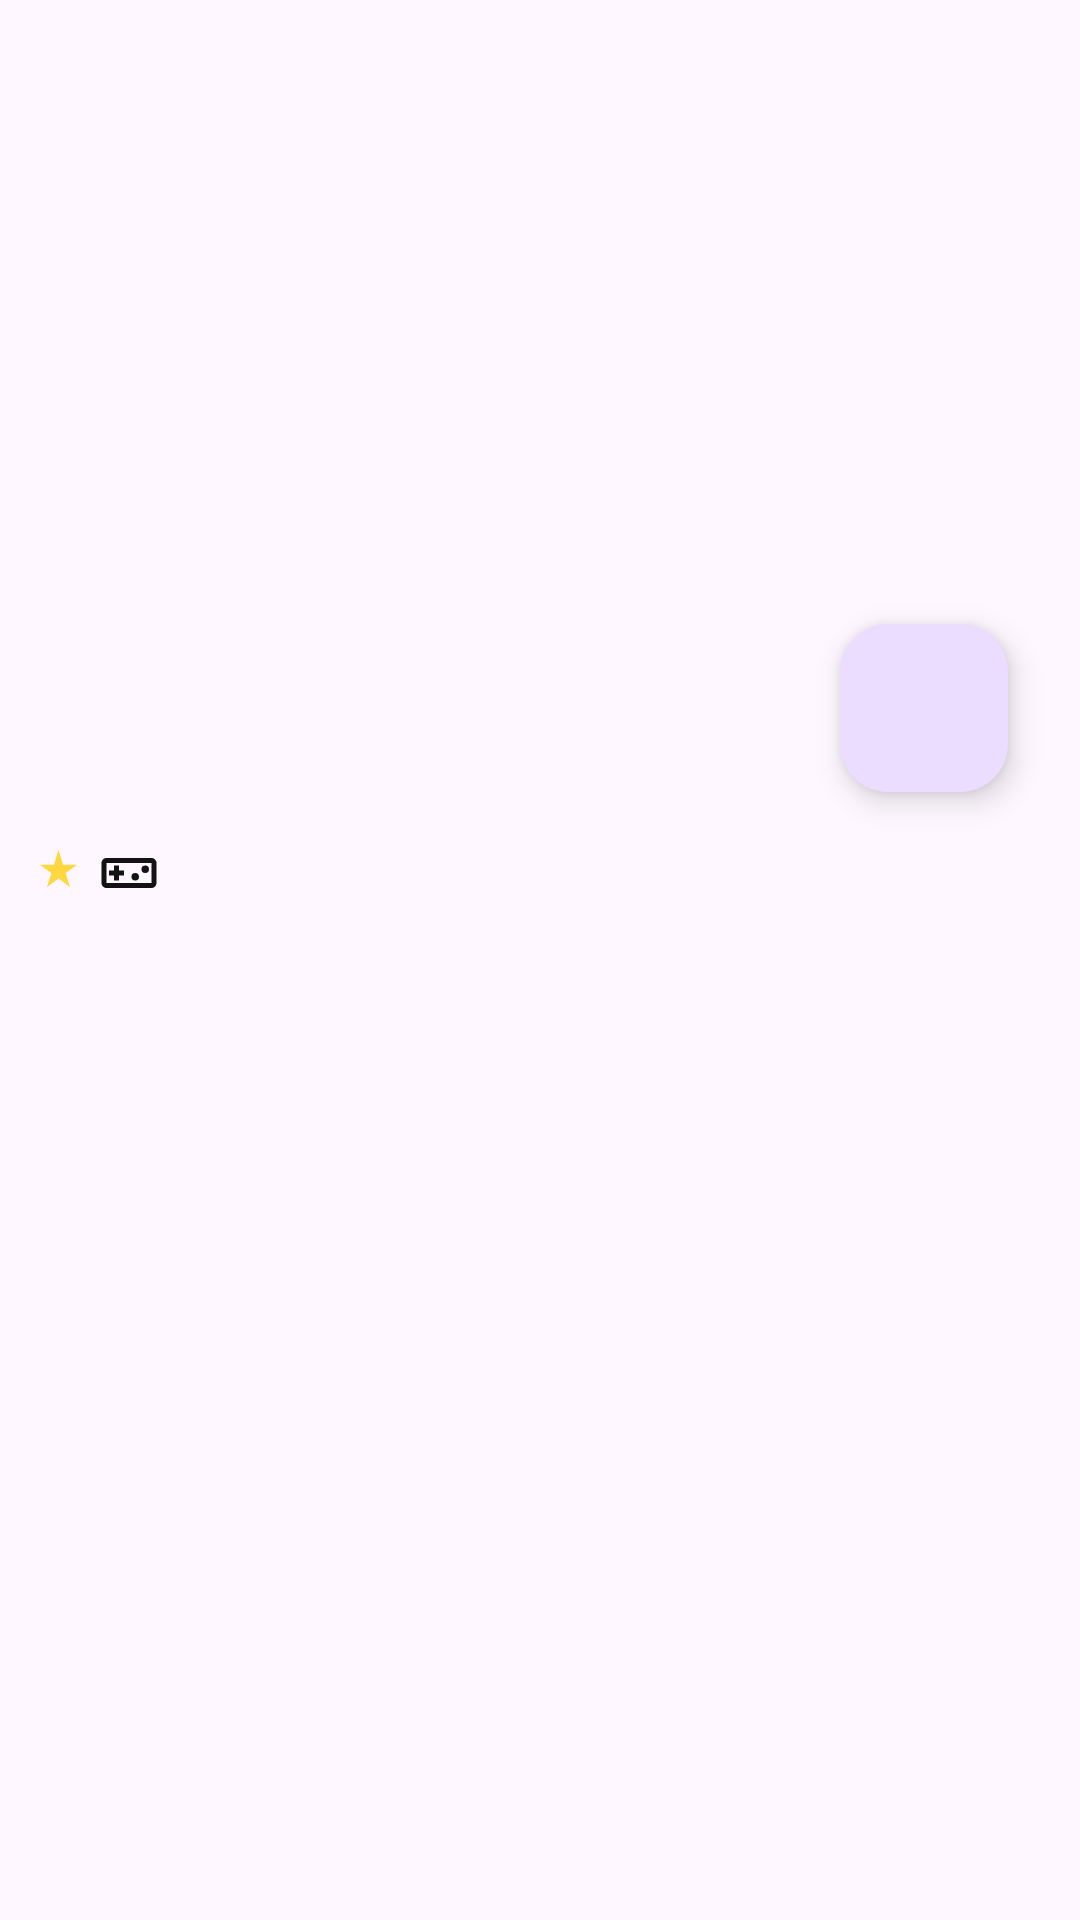

Icon click points for this 1080px×1920px phone screenshot, format (x=x, y=y):
star rate: (x=58, y=868)
videogame: (x=129, y=873)
